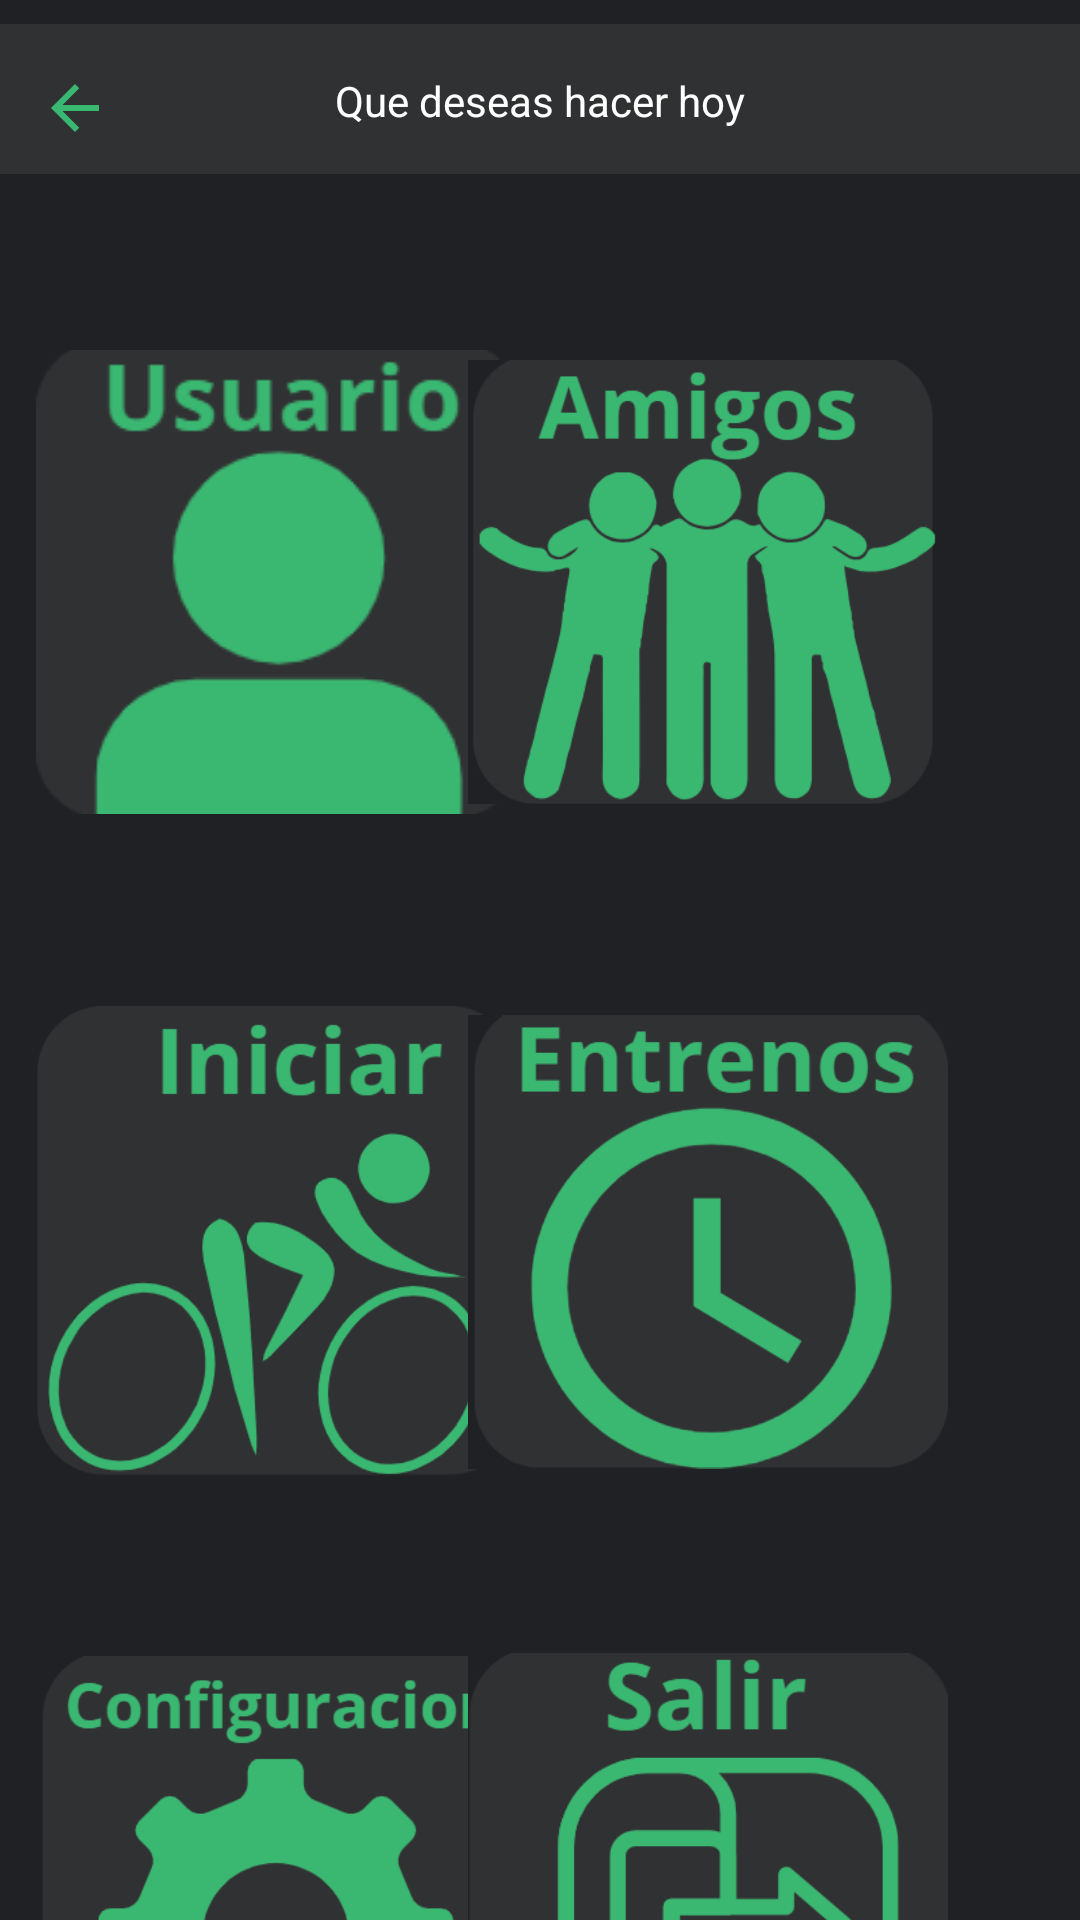

Icons on this 1080w x 1920h Android screen, each with the point to tap as point (x, y):
Volver: point (75, 108)
